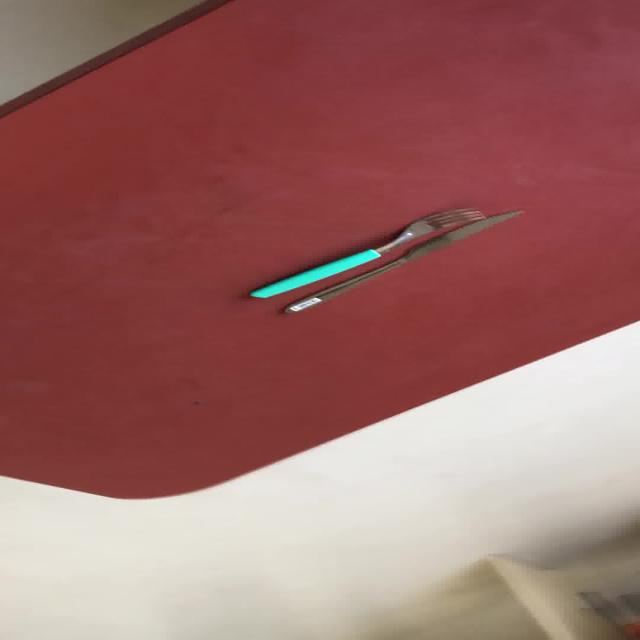fork: (281, 208, 523, 314), (246, 206, 486, 299)
knife fork: (280, 207, 524, 315), (247, 206, 487, 300)
